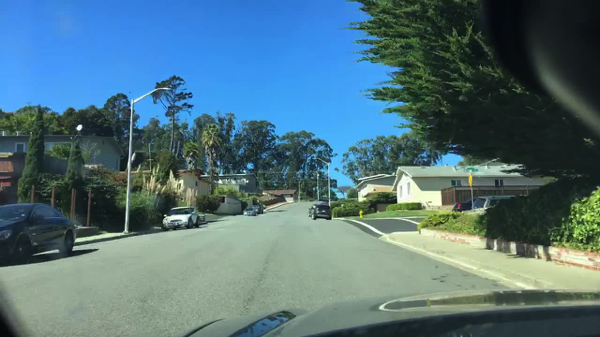car: (0, 204, 76, 262), (470, 196, 530, 213), (162, 206, 202, 230), (307, 205, 332, 221), (452, 201, 477, 213), (252, 204, 264, 216), (243, 207, 254, 218)
traffic sign: (466, 175, 474, 187), (464, 168, 477, 172)
